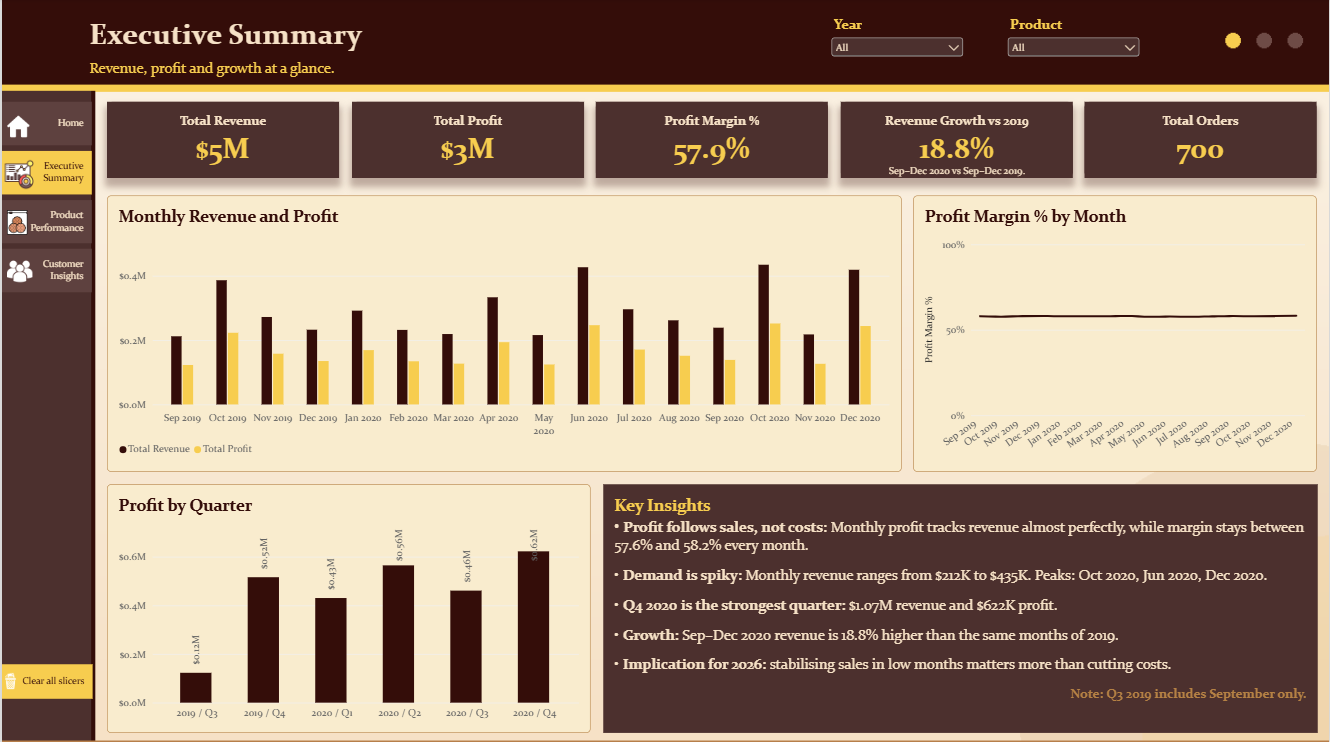

Layout of this report page (visuals, bound fields, positions):
{"tool":"powerbi","page":{"name":"Executive Summary","canvas":[1920,1080],"ordinal":1},"visuals":[{"type":"pageNavigator","box":[0,150,130.6,276.2],"z":0},{"type":"image","box":[2.9,170,40,32.1],"z":1000},{"type":"image","box":[4.3,302.9,36.4,45.7],"z":2000},{"type":"image","box":[4.2,214.2,42.6,84.2],"z":3000},{"type":"image","box":[7.1,371.8,36.5,50],"z":4000},{"type":"textbox","box":[126,25,568,62],"z":5000},{"type":"textbox","box":[126,88,458,62],"z":6000},{"type":"slicer","fields":{"Values":["DatesTable.Year"]},"box":[1196,26,200,98],"z":7000},{"type":"slicer","fields":{"Values":["Orders.Product"]},"box":[1452,26,200,65],"z":8000},{"type":"actionButton","box":[0,963.8,131.2,50],"z":9000},{"type":"image","box":[0,963.8,25,48.8],"z":10000},{"type":"cardVisual","fields":{"Data":["All Measures.Total Revenue"]},"box":[152,150.8,336,110],"z":11000},{"type":"cardVisual","fields":{"Data":["All Measures.Total Profit"]},"box":[506,150.8,336,110],"z":12000},{"type":"cardVisual","fields":{"Data":["All Measures.Profit Margin %"]},"box":[860,150.8,336,110],"z":13000},{"type":"cardVisual","fields":{"Data":["All Measures.Total Orders"]},"box":[1568,150.8,336,110],"z":14000},{"type":"cardVisual","fields":{"Data":["All Measures.Revenue YoY %"]},"box":[1214,150.8,336,110],"z":15000},{"type":"textbox","box":[1278,240,210,32],"z":16000},{"type":"lineClusteredColumnComboChart","title":"Monthly Revenue and Profit","fields":{"Category":["DatesTable.Month Year"],"Y":["All Measures.Total Revenue","All Measures.Total Profit"]},"box":[152,286,1150,400],"z":17000},{"type":"lineChart","title":"Profit Margin % by Month","fields":{"Category":["DatesTable.Month Year"],"Y":["All Measures.Profit Margin %"]},"box":[1320,286,584,400],"z":18000},{"type":"clusteredColumnChart","title":"Profit by Quarter","fields":{"Category":["DatesTable.Year Quarter"],"Y":["All Measures.Total Profit"]},"box":[152,704,700,360],"z":19000},{"type":"textbox","box":[0,426,150,260],"z":20000},{"type":"textbox","box":[0,930,150,150],"z":21000},{"type":"textbox","box":[870,704,1034,360],"z":22000}]}

Visuals, with their boxes in screenshot pixels (x1, y1, x2, y2), scaled from the page's 1920x1080 canvas onto the 1330x742 screenshot:
pageNavigator: pyautogui.locateOnScreen(0, 103, 90, 293)
image: pyautogui.locateOnScreen(2, 117, 30, 139)
image: pyautogui.locateOnScreen(3, 208, 28, 240)
image: pyautogui.locateOnScreen(3, 147, 32, 205)
image: pyautogui.locateOnScreen(5, 255, 30, 290)
textbox: pyautogui.locateOnScreen(87, 17, 481, 60)
textbox: pyautogui.locateOnScreen(87, 60, 405, 103)
slicer - DatesTable.Year: pyautogui.locateOnScreen(828, 18, 967, 85)
slicer - Orders.Product: pyautogui.locateOnScreen(1006, 18, 1144, 63)
actionButton: pyautogui.locateOnScreen(0, 662, 91, 697)
image: pyautogui.locateOnScreen(0, 662, 17, 696)
cardVisual - All Measures.Total Revenue: pyautogui.locateOnScreen(105, 104, 338, 179)
cardVisual - All Measures.Total Profit: pyautogui.locateOnScreen(351, 104, 583, 179)
cardVisual - All Measures.Profit Margin %: pyautogui.locateOnScreen(596, 104, 828, 179)
cardVisual - All Measures.Total Orders: pyautogui.locateOnScreen(1086, 104, 1319, 179)
cardVisual - All Measures.Revenue YoY %: pyautogui.locateOnScreen(841, 104, 1074, 179)
textbox: pyautogui.locateOnScreen(885, 165, 1031, 187)
"Monthly Revenue and Profit" lineClusteredColumnComboChart: pyautogui.locateOnScreen(105, 196, 902, 471)
"Profit Margin % by Month" lineChart: pyautogui.locateOnScreen(914, 196, 1319, 471)
"Profit by Quarter" clusteredColumnChart: pyautogui.locateOnScreen(105, 484, 590, 731)
textbox: pyautogui.locateOnScreen(0, 293, 104, 471)
textbox: pyautogui.locateOnScreen(0, 639, 104, 741)
textbox: pyautogui.locateOnScreen(603, 484, 1319, 731)
